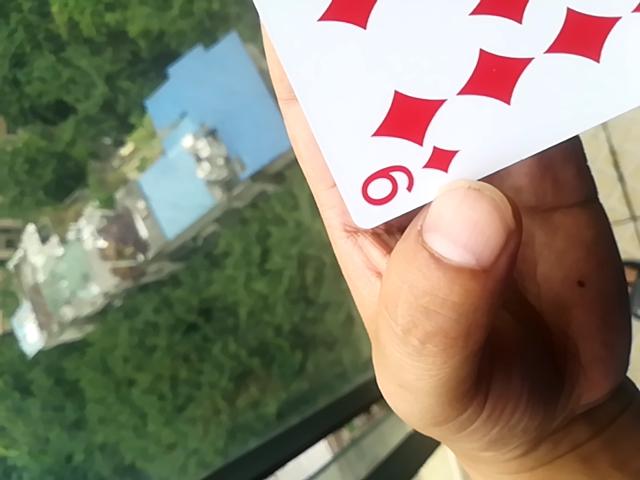fk 9: (241, 2, 640, 236)
